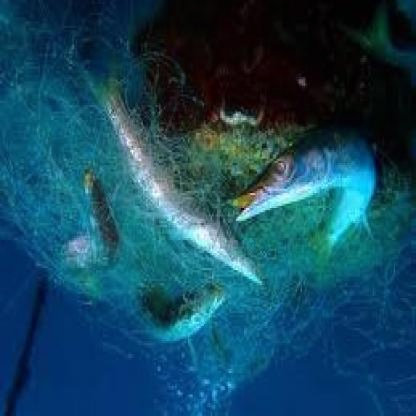net: (10, 24, 398, 373)
